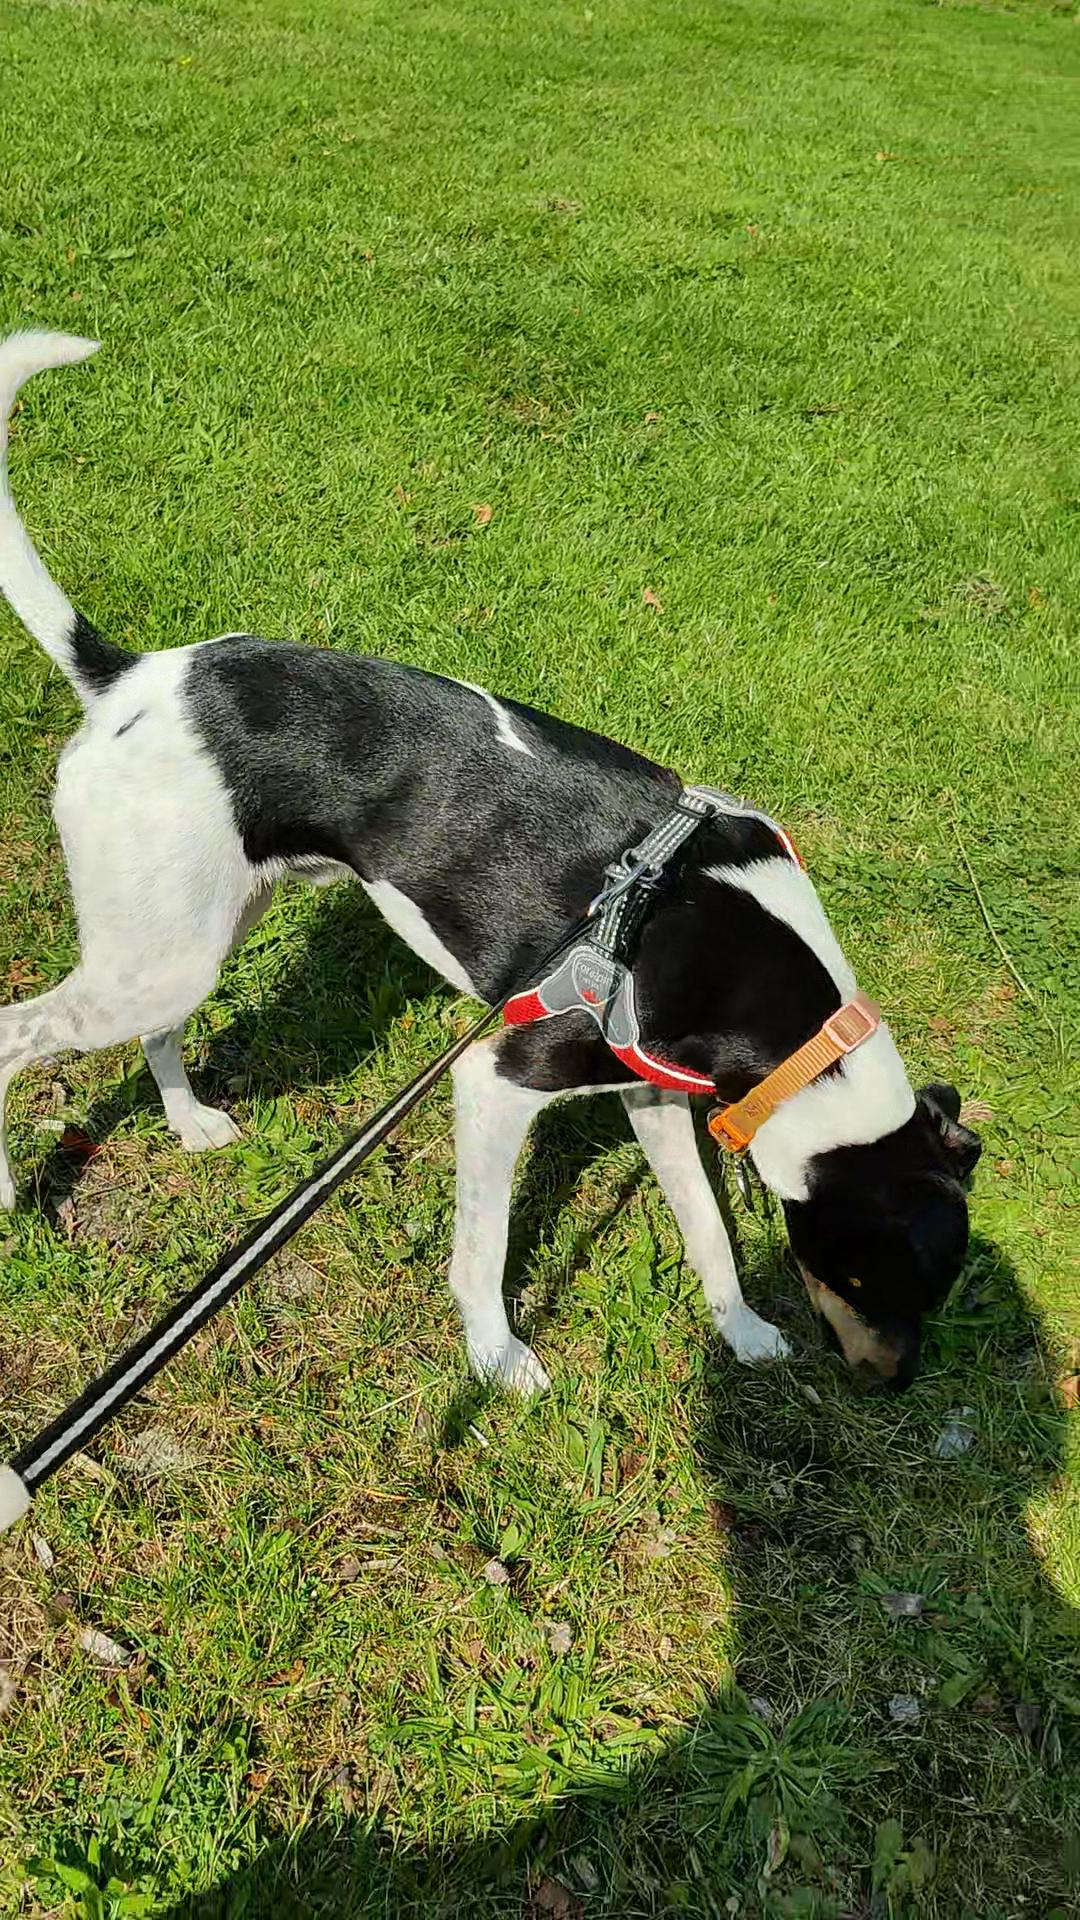Dog: (0, 324, 1021, 1427)
